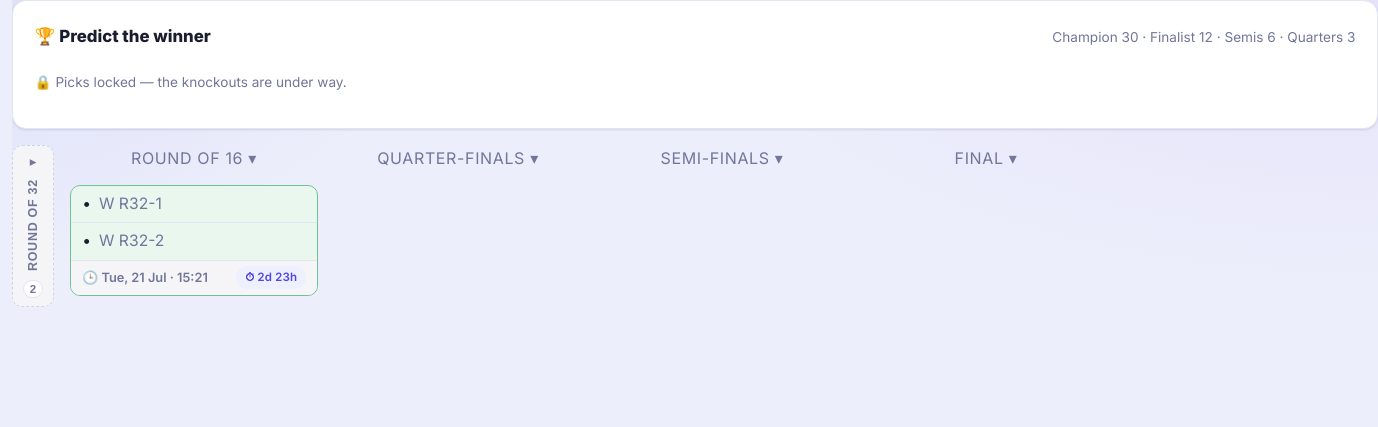
Test: BracketView › auto-collapses a completed round to a strip, and expands it on click
Expected: the text "Germany" is not shown
# Expanding it brings the R32 ties (and their teams) back.
Click the button with aria-label "Show Round of 32".
click(33, 226)  # box [12,145,54,307]
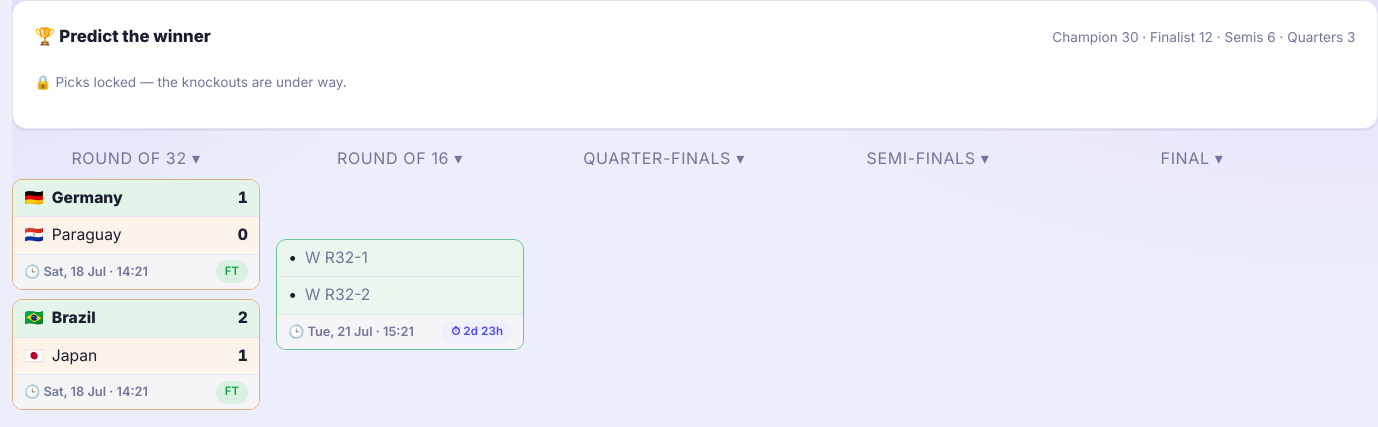
Expected: the text "Germany" is shown, [52,188,123,207]
